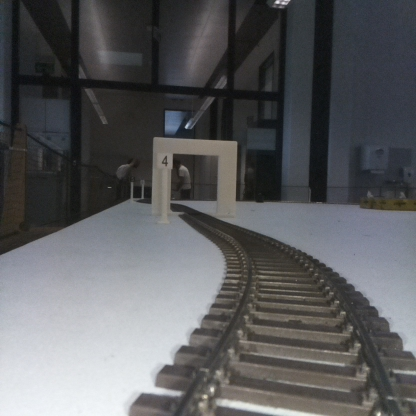white-info-4: (157, 151, 172, 222)
